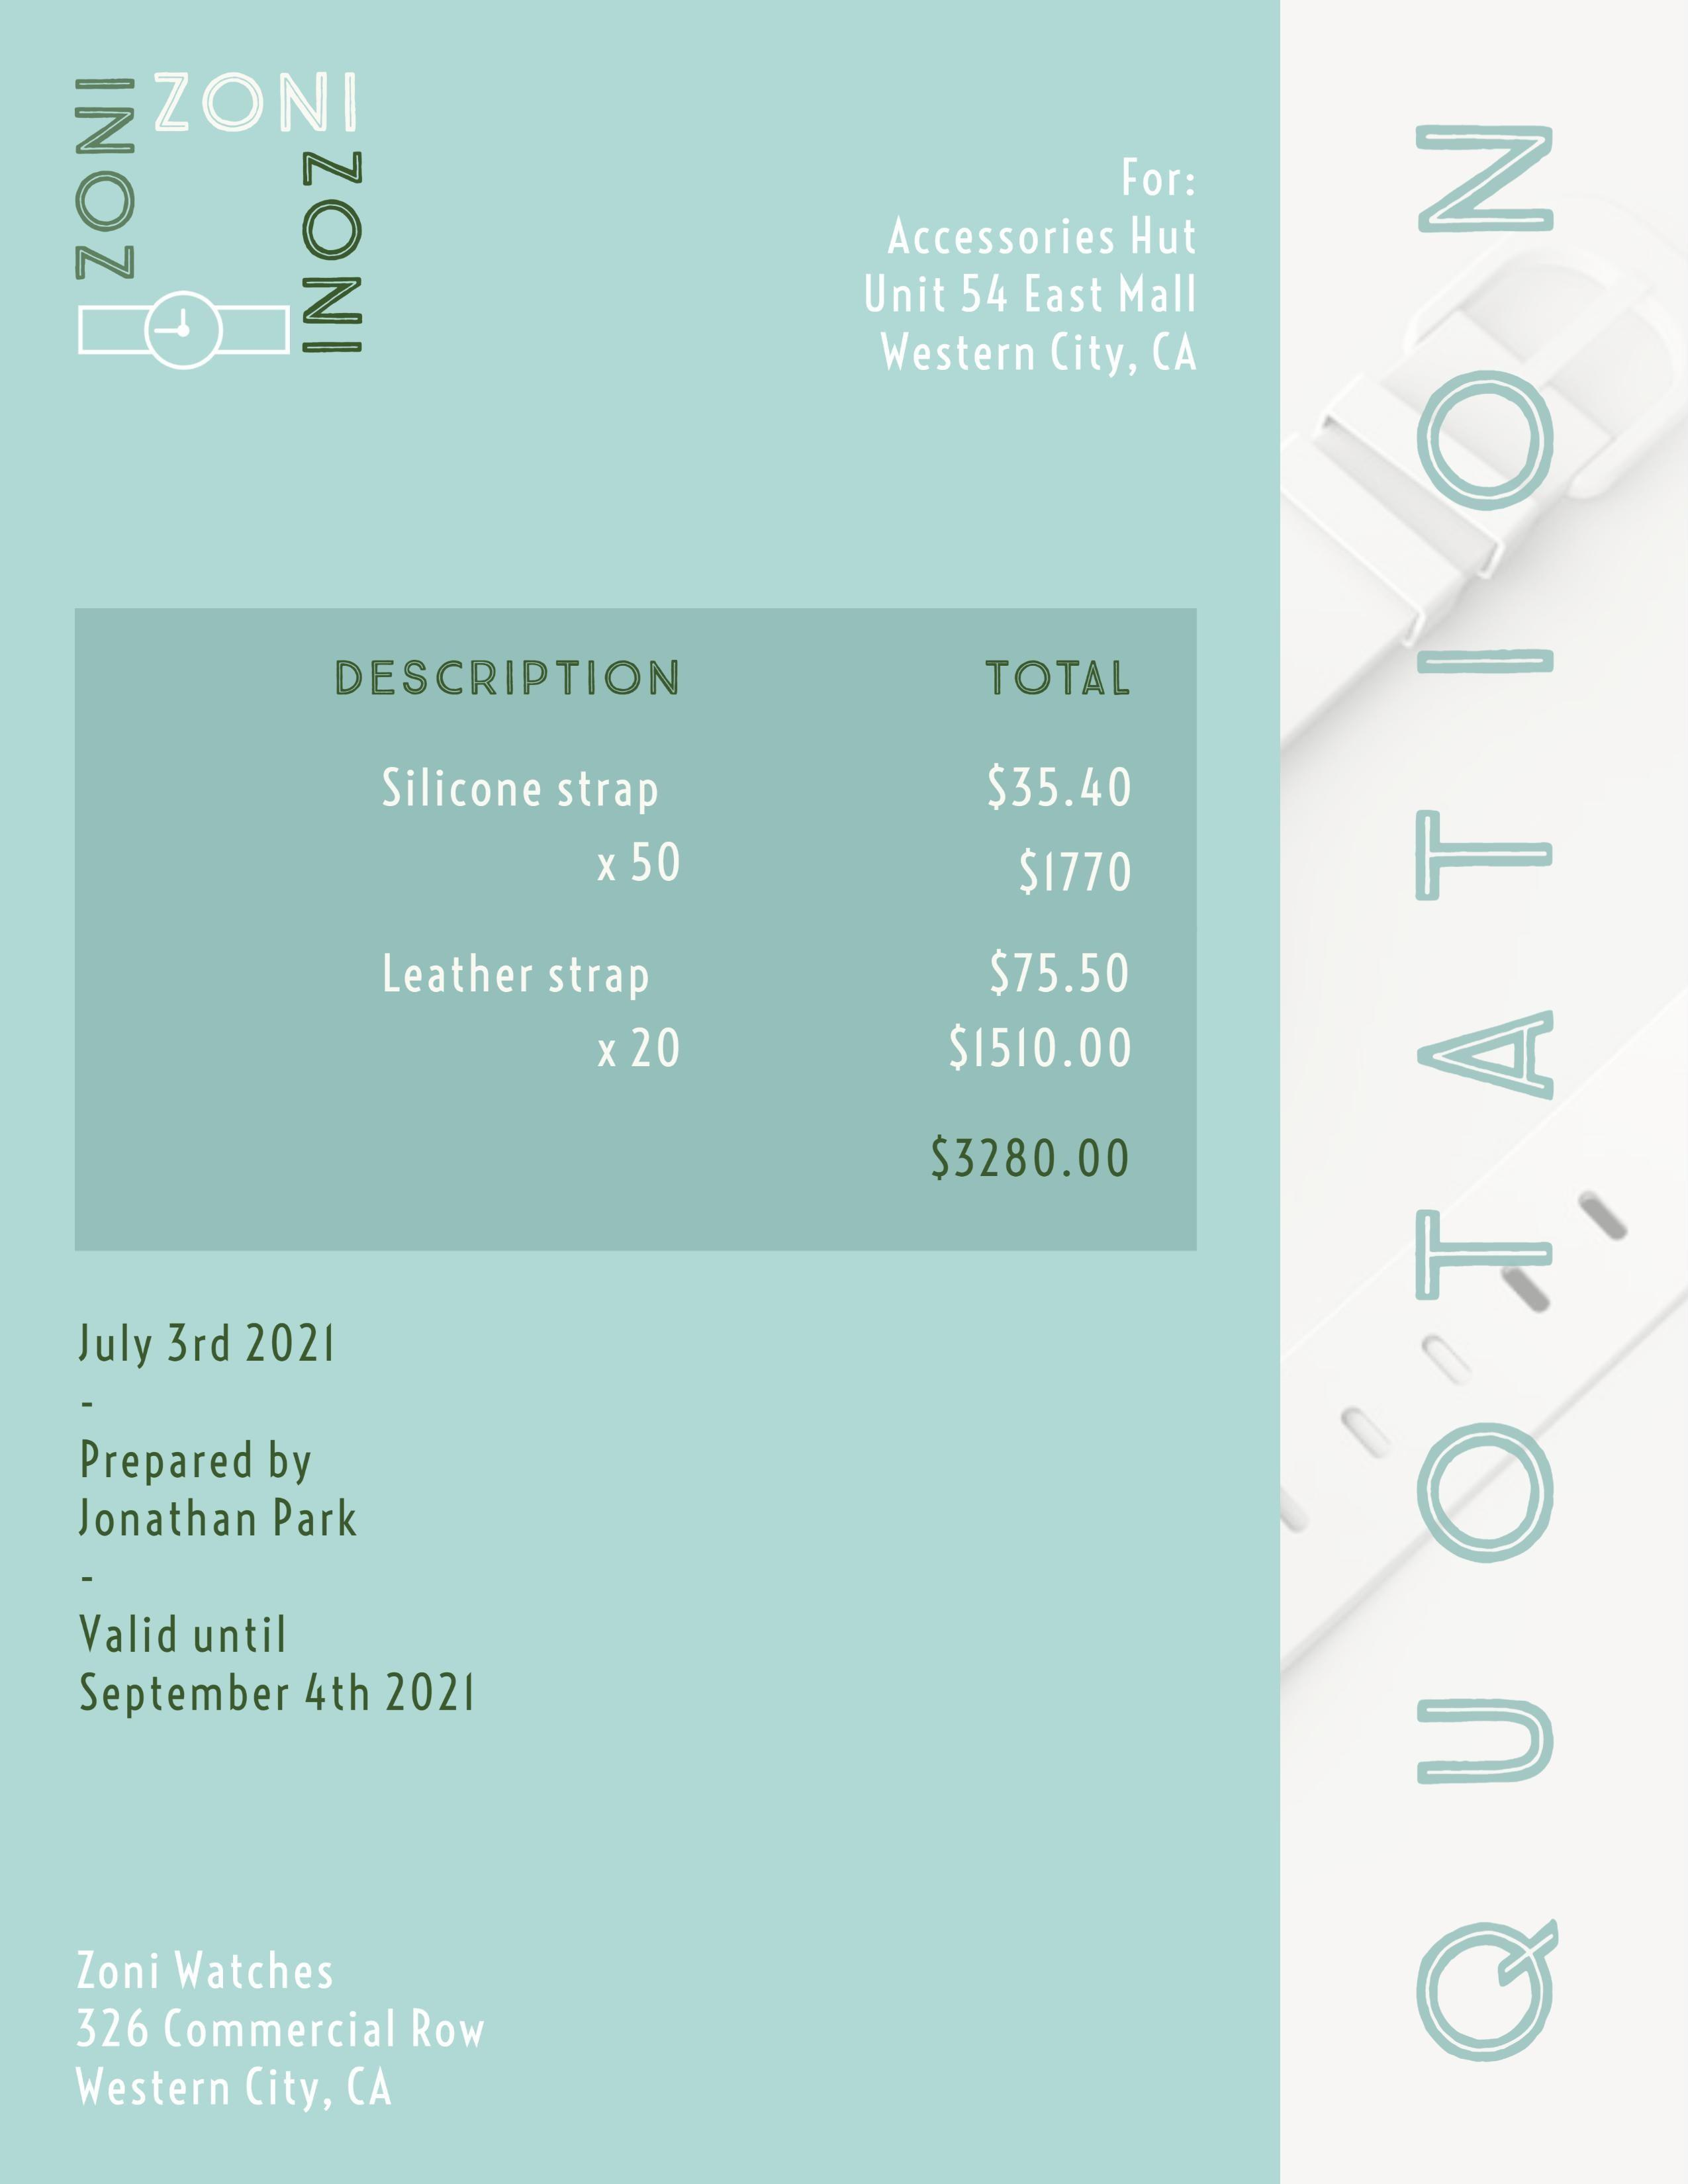ROI: (317, 626, 1172, 1094), (57, 1314, 532, 1748), (53, 1916, 511, 2145), (853, 140, 1236, 388), (904, 1115, 1145, 1195)
